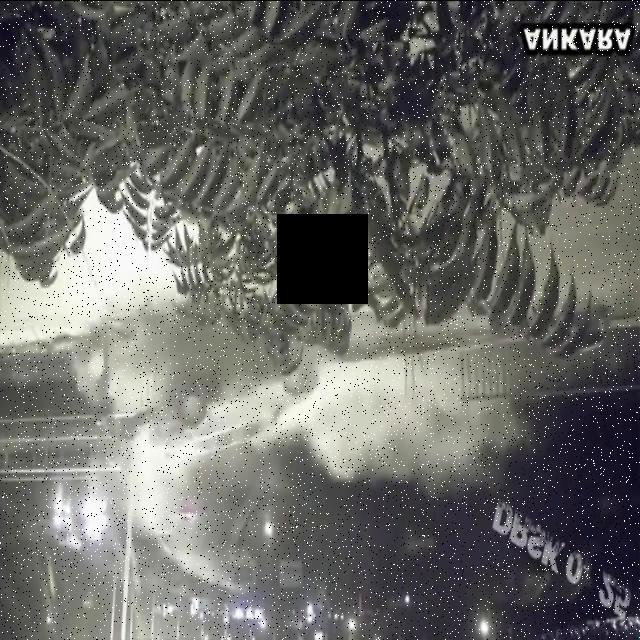severe: (170, 338, 322, 466)
